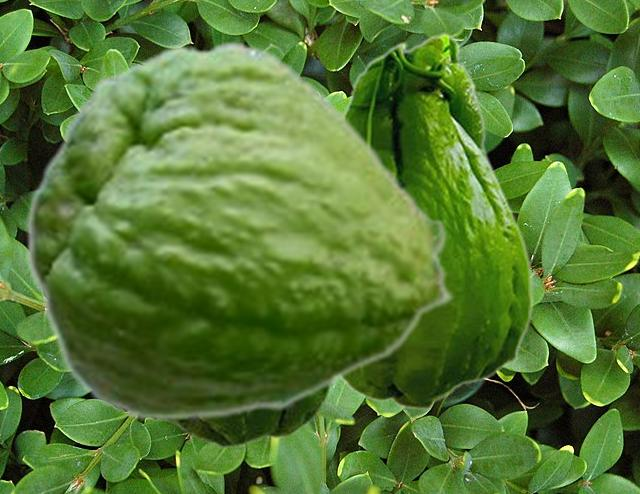sayote: (25, 39, 456, 422), (341, 32, 533, 410), (161, 381, 339, 448)
